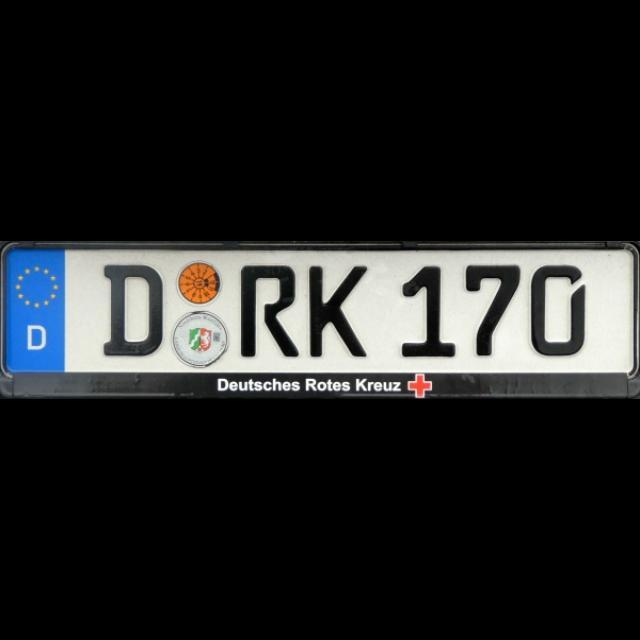license-plates: (2, 243, 640, 398)
